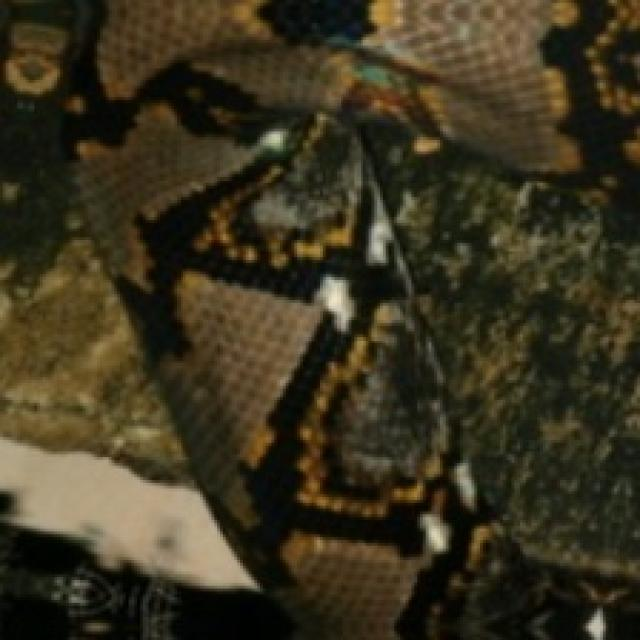reticulated python: (74, 0, 640, 639)
